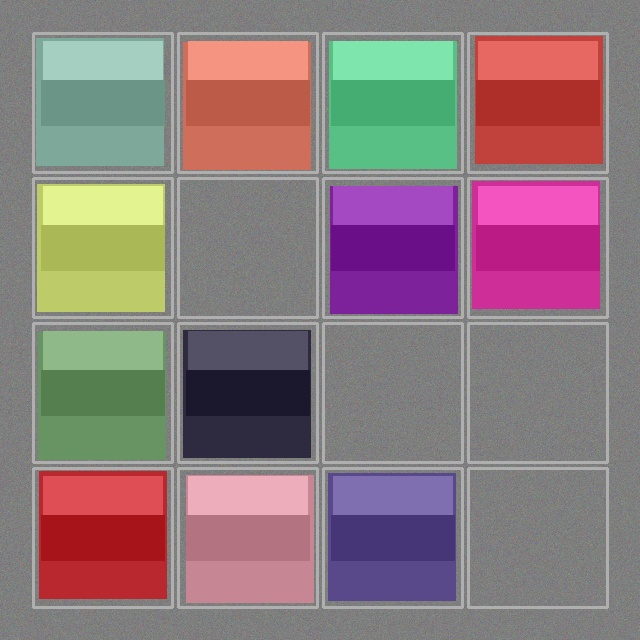space-empty: (180, 180, 315, 315), (325, 325, 460, 460), (470, 325, 605, 460), (470, 470, 605, 605)
space-occupied: (35, 35, 170, 170), (180, 35, 315, 170), (325, 35, 460, 170), (470, 35, 605, 170), (35, 180, 170, 315), (325, 180, 460, 315), (470, 180, 605, 315), (35, 325, 170, 460), (180, 325, 315, 460), (35, 470, 170, 605), (180, 470, 315, 605), (325, 470, 460, 605)
